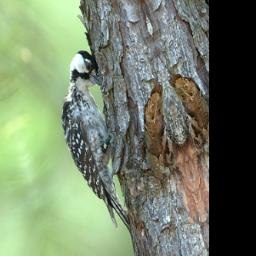Woodpecker: (44, 44, 142, 253)
